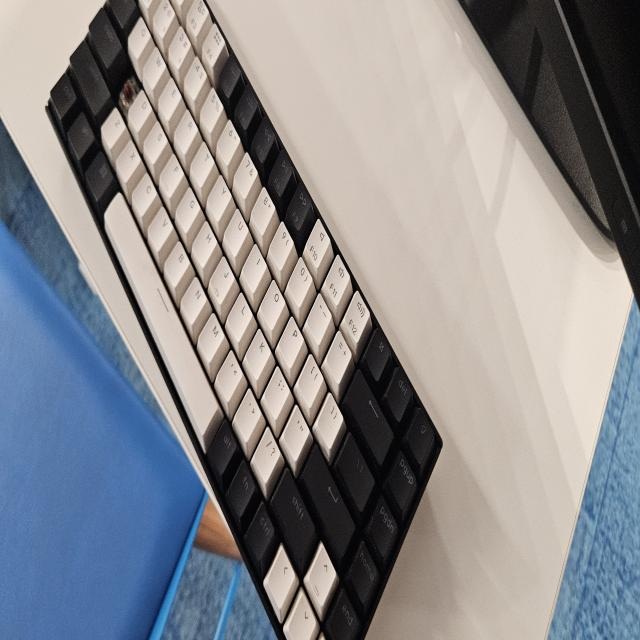C: (117, 70, 132, 108)
